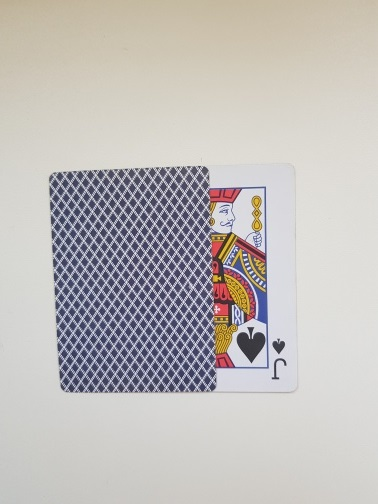jack: (130, 165, 299, 394)
